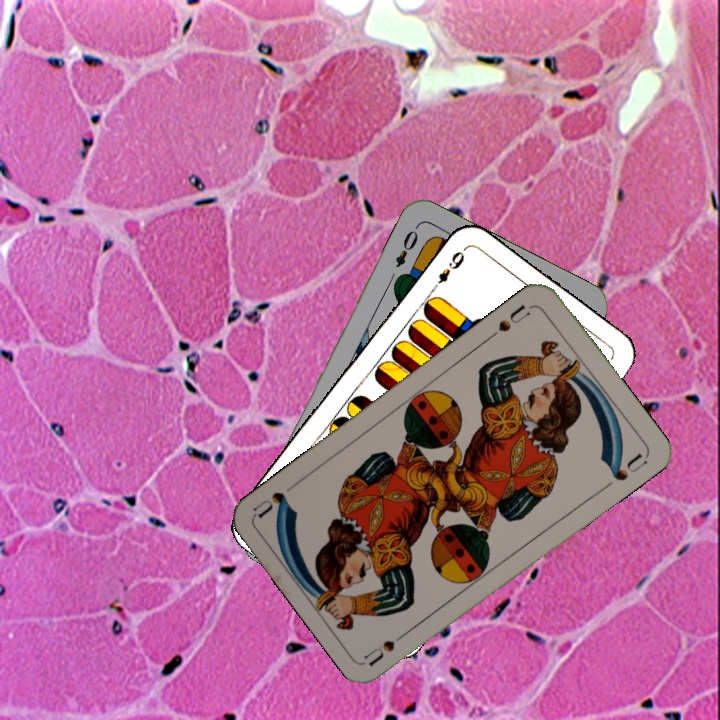E9: (427, 244, 469, 295)
EO: (391, 226, 421, 271)
SU: (361, 624, 415, 668), (485, 300, 535, 342)
